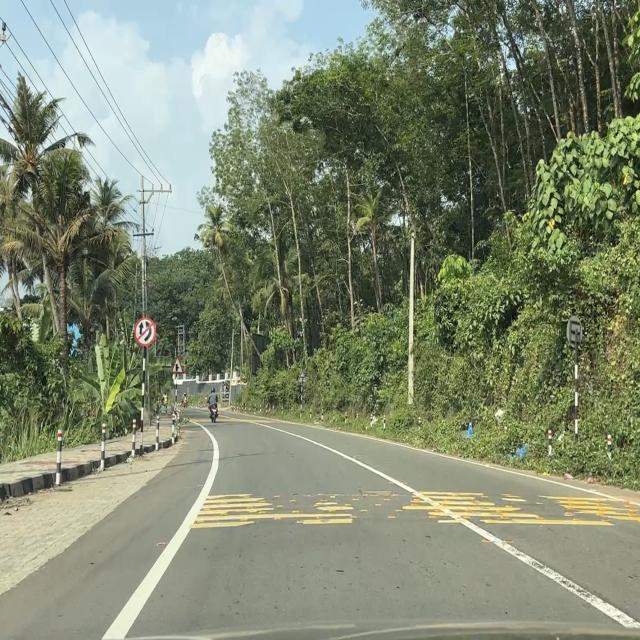OVERTAKING_PROHIBITED: (134, 316, 156, 348)
SIDE_ROAD_RIGHT: (171, 355, 184, 374)
